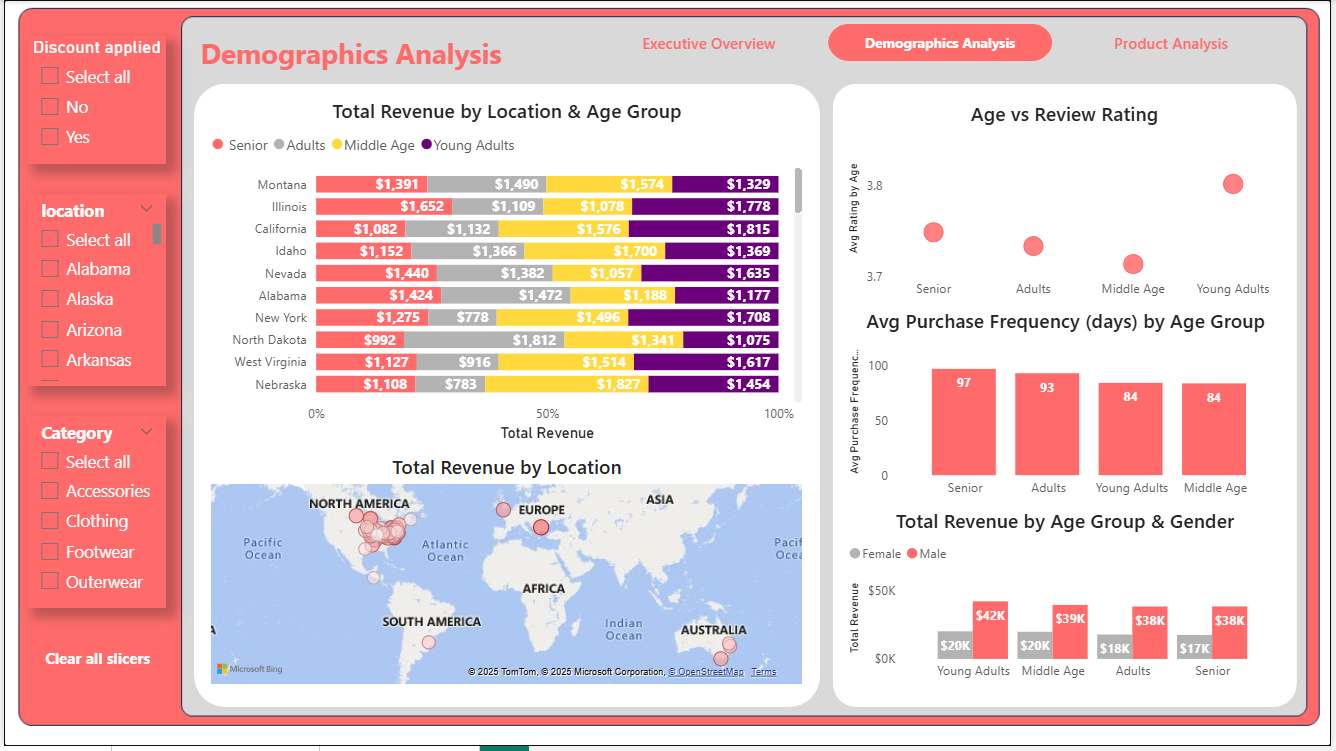

Layout of this report page (visuals, bound fields, positions):
{"tool":"powerbi","page":{"name":"Demographics Analysis","canvas":[1280,720],"ordinal":1},"visuals":[{"type":"shape","box":[799.3,81.1,448,601.6],"z":0},{"type":"clusteredColumnChart","title":"Total Revenue by Age Group & Gender","fields":{"Category":["mydatabase mytable.age_group"],"Series":["mydatabase mytable.gender"],"Y":["Measure table.Total Revenue"]},"box":[810.7,489.2,426.7,176.4],"z":1000},{"type":"shape","box":[183.5,81.1,604.4,601.6],"z":2000},{"type":"map","title":"Total Revenue by Location","fields":{"Category":["mydatabase mytable.location"],"Size":["Measure table.Total Revenue"]},"box":[194.8,399.6,580.3,266],"z":3000},{"type":"columnChart","title":"Avg Purchase Frequency (days) by Age Group","fields":{"Category":["mydatabase mytable.age_group"],"Y":["Measure table.Avg Purchase Frequency (days)"]},"box":[810.7,297.2,428.1,192],"z":4000},{"type":"scatterChart","title":"Age vs Review Rating","fields":{"X":["mydatabase mytable.age_group"],"Y":["Measure table.Avg Rating by Age"],"Size":["Measure table.Avg Purchase by Age"]},"box":[809.2,96.7,428.1,200.5],"z":5000},{"type":"slicer","title":"Discount applied","fields":{"Values":["mydatabase mytable.discount_applied"]},"box":[23.4,35,133.9,123.1],"z":6000},{"type":"pageNavigator","box":[571.9,22.9,666,36.2],"z":7000},{"type":"slicer","fields":{"Values":["mydatabase mytable.location"]},"box":[23.4,187,133.9,185.8],"z":8000},{"type":"hundredPercentStackedBarChart","title":"Total Revenue by Location & Age Group","fields":{"Category":["mydatabase mytable.location"],"Y":["Measure table.Total Revenue"],"Series":["mydatabase mytable.age_group"]},"box":[194.8,93.9,580.3,337.1],"z":9000},{"type":"slicer","fields":{"Values":["mydatabase mytable.category"]},"box":[23.4,401.7,133.9,184.6],"z":10000},{"type":"actionButton","box":[33.6,615.3,113.4,38.6],"z":11000},{"type":"textbox","box":[184.6,27.7,421,73.6],"z":12000}]}

Visuals, with their boxes in screenshot pixels (x1, y1, x2, y2), scaled from the page's 1280x720 canvas onto the 1336x751 screenshot:
shape: 834,85,1302,712
"Total Revenue by Age Group & Gender" clusteredColumnChart: 846,510,1292,694
shape: 192,85,822,712
"Total Revenue by Location" map: 203,417,809,694
"Avg Purchase Frequency (days) by Age Group" columnChart: 846,310,1293,510
"Age vs Review Rating" scatterChart: 845,101,1291,310
"Discount applied" slicer: 24,37,164,165
pageNavigator: 597,24,1292,62
slicer - mydatabase mytable.location: 24,195,164,389
"Total Revenue by Location & Age Group" hundredPercentStackedBarChart: 203,98,809,450
slicer - mydatabase mytable.category: 24,419,164,612
actionButton: 35,642,153,682
textbox: 193,29,632,106
